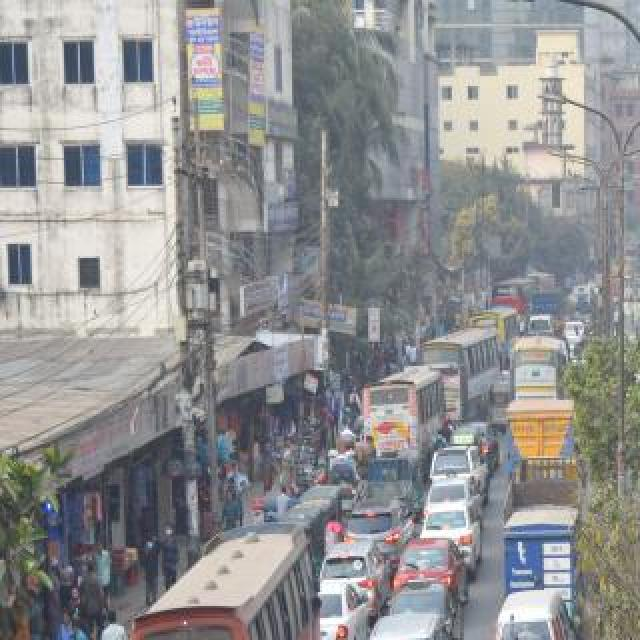bus: (138, 530, 314, 640), (361, 366, 451, 458), (416, 331, 498, 413), (508, 334, 576, 406), (610, 278, 640, 404), (468, 307, 524, 351), (490, 277, 536, 315)
car: (394, 535, 474, 603), (386, 576, 466, 640), (325, 537, 395, 609), (419, 499, 483, 573), (427, 436, 495, 496), (312, 570, 368, 640), (352, 501, 412, 555)
truck: (501, 452, 585, 544)
van: (501, 499, 583, 623), (506, 394, 586, 462), (486, 586, 574, 640), (361, 445, 419, 517), (362, 610, 454, 640), (532, 292, 568, 326)
